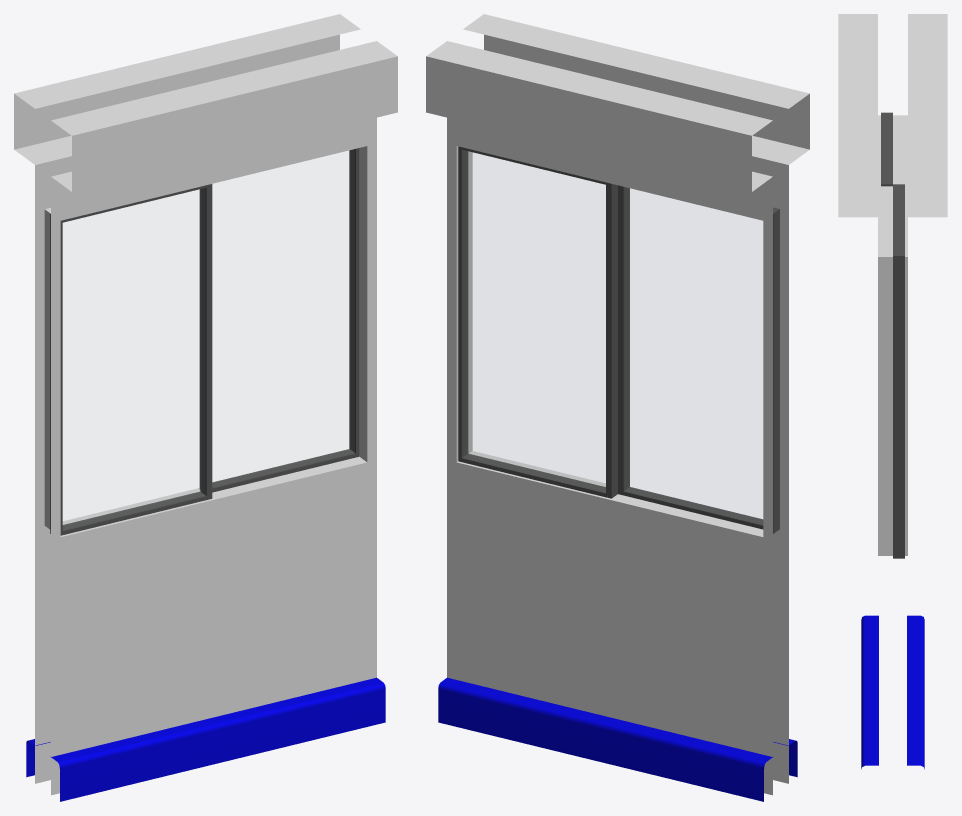
Rendered from SecuirtyWallAlt.fbx.
3 renders of one model, left to right at view 1: azimuth 30°, elevation 25°; view 2: azimuth 150°, elevation 25°; view 3: azimuth 270°, elevation 25°, orthographic. The views are drawn at different scales.
Visible parts, largest first — view 1: Wall, GlassLeft, GlassRight, Trim, WindowFrameLeft, WindowFrameRight; view 2: Wall, GlassRight, GlassLeft, Trim, WindowFrameRight, WindowFrameLeft; view 3: Wall, Trim, WindowFrameRight, WindowFrameLeft.
Part boxes in pixels (x1,y1,x2,y2): Wall: (14,14,397,795); GlassLeft: (63,190,200,524); GlassRight: (213,151,349,482); Trim: (26,677,385,801); WindowFrameLeft: (50,184,212,535); WindowFrameRight: (199,148,359,492); Wall: (426,14,809,795); GlassRight: (468,152,605,487); GlassLeft: (629,189,762,519); Trim: (438,677,797,801); WindowFrameRight: (458,146,617,498); WindowFrameLeft: (618,185,779,533); Wall: (838,14,947,555); Trim: (861,615,924,769); WindowFrameRight: (893,184,904,558); WindowFrameLeft: (881,112,892,186).
Bounding box in the file's own units: 6 × 11.87 × 1.84.
